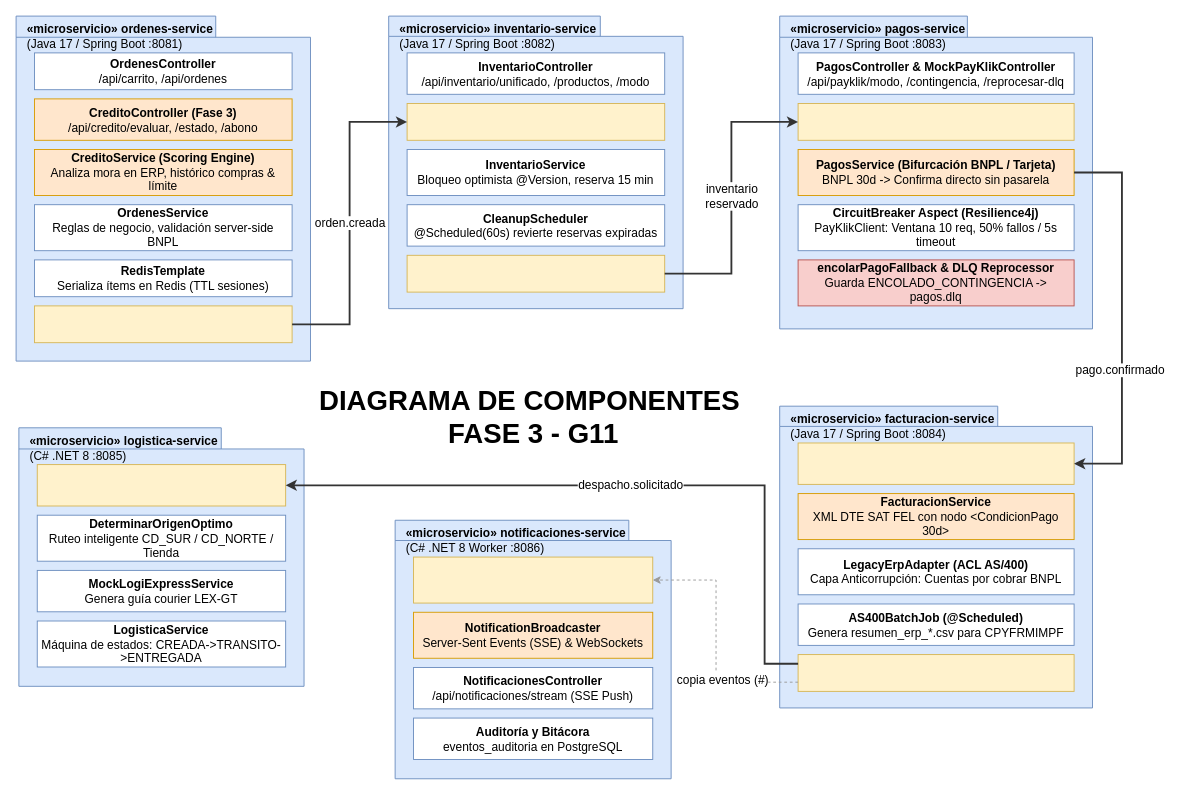
Some shapes in this 1180 by 795 pixel diagram are drawn without their labels. The centre of each missing label's shape, as x and y in pixels:
DespachoSolicitadoConsumer Consume logistica.despacho.queue: point 161,485
InventarioReservadoListener Consume pagos.orden.queue: point 935,121
OrdenCreadaListener Consume inventario.orden.queue: point 535,121
PagoConfirmadoListener Consume facturacion.pago.queue (pago.confirmado): point 935,463
RabbitMQConsumerService BackgroundService consume topic (#): point 533,579
RabbitMQSender Publica despacho.solicitado: point 935,672
RabbitMQSender Publica inventario.reservado / insuficiente: point 535,273
RabbitMQSender Publica orden.creada al exchange topic: point 163,324
